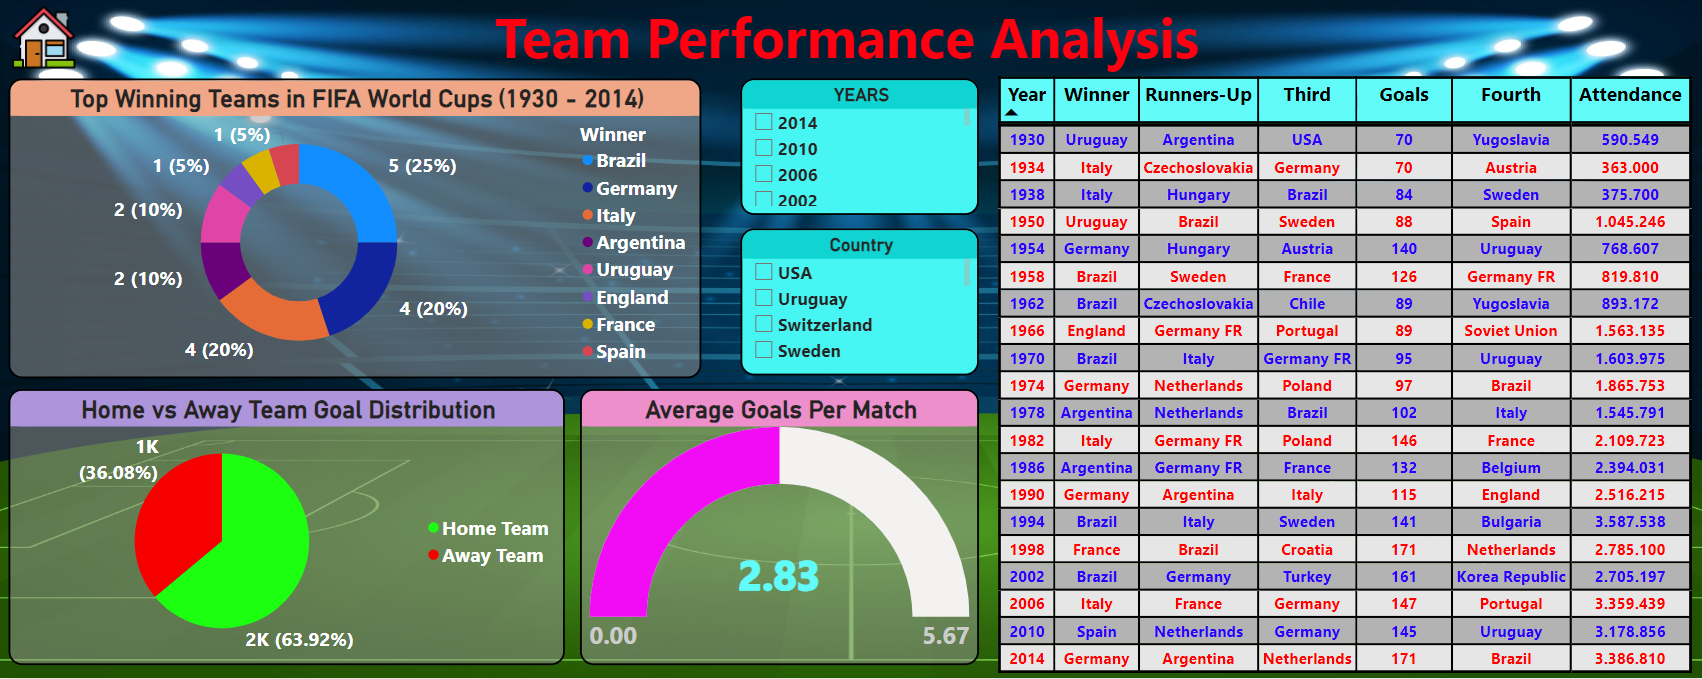

The dashboard page shown, as its layout file describes it:
{"tool":"powerbi","page":{"name":"Team Performance Analysis","canvas":[2500,1000],"ordinal":2},"visuals":[{"type":"textbox","box":[723.2,0,1055.1,120.9],"z":0},{"type":"pieChart","title":"Home vs Away Team Goal Distribution","fields":{"Y":["Sum(WorldCupMatches.Home Team Goals)","Sum(WorldCupMatches.Away Team Goals)"]},"box":[15.4,575.9,815.5,404.5],"z":1000},{"type":"donutChart","title":"Top Winning Teams in FIFA World Cups (1930 - 2014)","fields":{"Category":["WorldCups.Winner"],"Y":["CountNonNull(WorldCups.Winner)"]},"box":[15.4,120.9,1015.5,439.6],"z":2000},{"type":"tableEx","fields":{"Values":["WorldCups.Year","WorldCups.Winner","WorldCups.Runners-Up","WorldCups.Third","WorldCups.GoalsScored","WorldCups.Fourth","WorldCups.Attendance"]},"box":[1459.6,112.1,1039.7,888],"z":3000},{"type":"gauge","title":"Average Goals Per Match","fields":{"Y":["WorldCupMatches.AvgGoals"]},"box":[852.9,575.9,584.7,404.5],"z":3001},{"type":"slicer","title":"YEARS","fields":{"Values":["WorldCups.Year"]},"box":[1088.1,120.9,349.5,200],"z":3002},{"type":"slicer","title":"Country","fields":{"Values":["WorldCups.Country"]},"box":[1088.1,340.7,349.5,215.4],"z":3003},{"type":"image","box":[15.4,6.6,103.3,107.7],"z":3004}]}

Visuals, with their boxes in screenshot pixels (x1, y1, x2, y2), scaled from the page's 2500x1000 canvas onto the 1702x679 screenshot:
textbox: box(492, 0, 1211, 82)
"Home vs Away Team Goal Distribution" pieChart: box(10, 391, 566, 666)
"Top Winning Teams in FIFA World Cups (1930 - 2014)" donutChart: box(10, 82, 702, 381)
tableEx - WorldCups.Year x WorldCups.Winner: box(994, 76, 1701, 678)
"Average Goals Per Match" gauge: box(581, 391, 979, 666)
"YEARS" slicer: box(741, 82, 979, 218)
"Country" slicer: box(741, 231, 979, 378)
image: box(10, 4, 81, 78)
